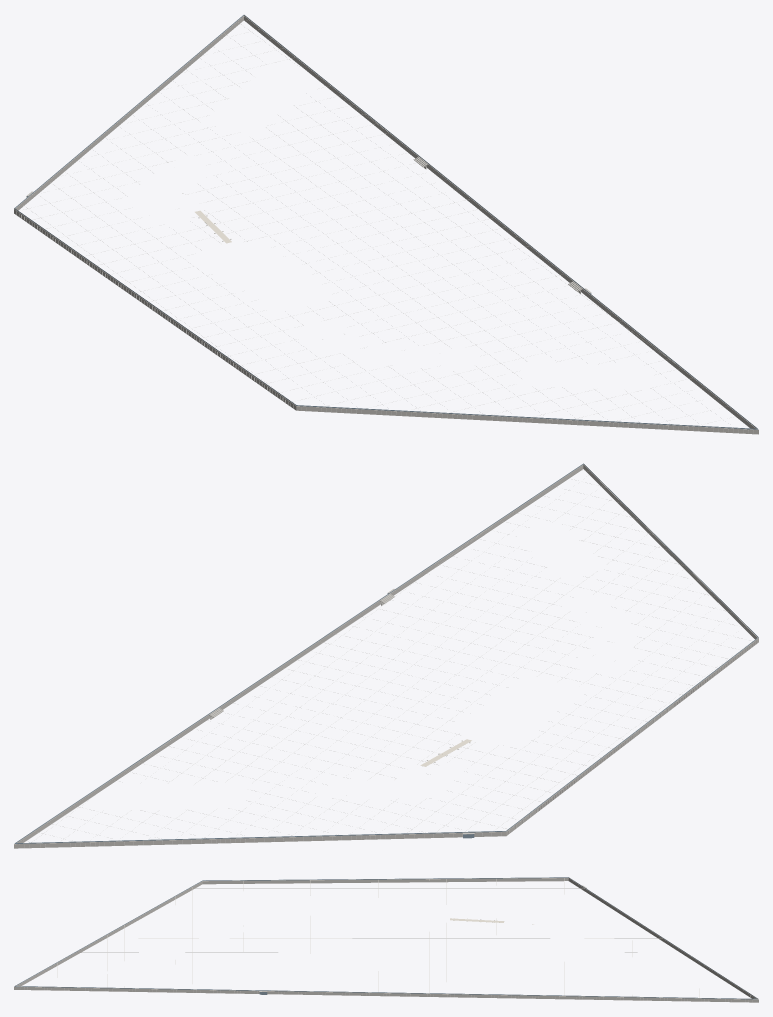
File: island.glb
The picture shows the model from 3 angles, top to bottom: view 1: azimuth 30°, elevation 25°; view 2: azimuth 150°, elevation 25°; view 3: azimuth 270°, elevation 25°; orthographic projection. The views are drawn at different scales.
Parts seen in each view (by area): view 1: island_facade, island_rail, island_grid; view 2: island_facade, island_rail, island_grid; view 3: island_facade, island_rail, island_grid.
Part boxes in pixels (box(x1,y1,x2,y2)): island_facade: box(14, 15, 758, 434); island_rail: box(14, 15, 758, 429); island_grid: box(22, 22, 710, 424); island_facade: box(14, 464, 758, 848); island_rail: box(14, 463, 758, 843); island_grid: box(21, 483, 752, 842); island_facade: box(14, 878, 758, 1002); island_rail: box(14, 877, 757, 999); island_grid: box(57, 878, 750, 998).
Bounding box in the file's own units: 512 × 7.1 × 1322.
